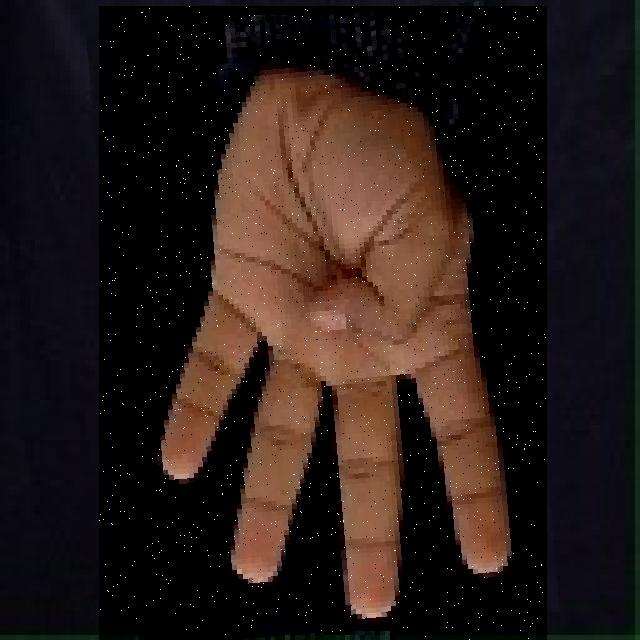Thanks: (99, 6, 547, 640)
